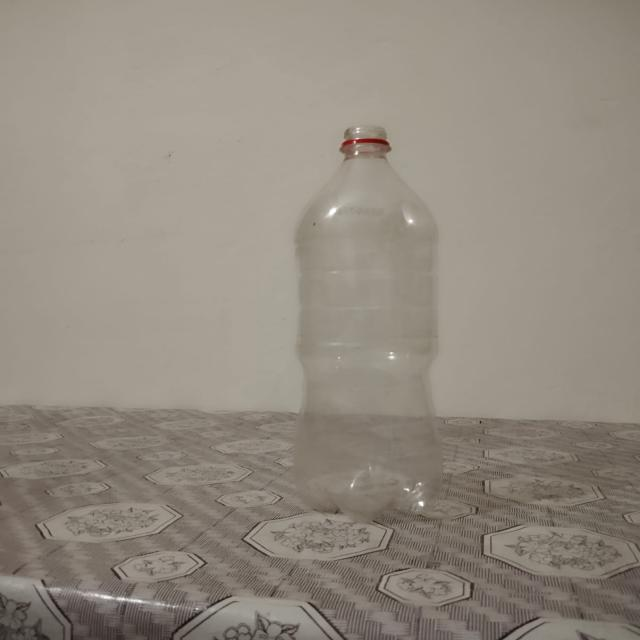bottle: (297, 126, 440, 518)
